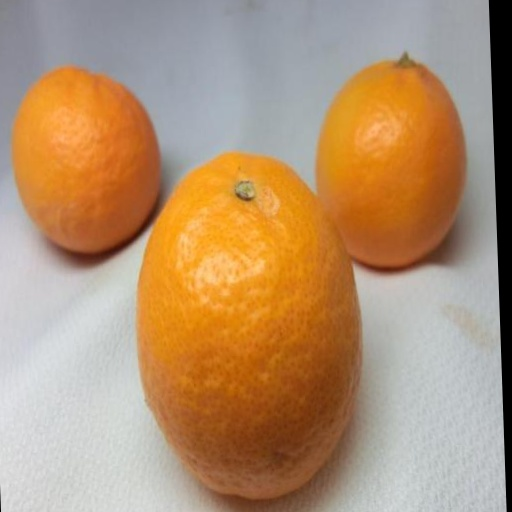fruit: (136, 154, 360, 498), (316, 56, 465, 266), (12, 67, 159, 252)
